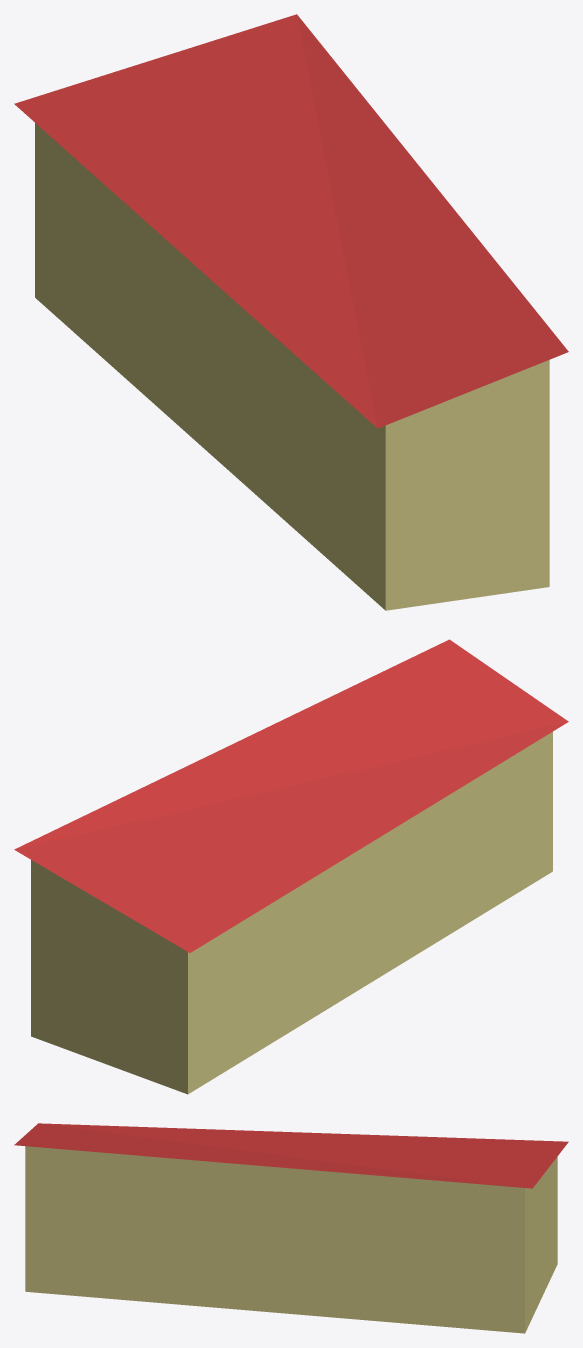
3 views of the same model, one above another, from view 1: azimuth 30°, elevation 25°; view 2: azimuth 150°, elevation 25°; view 3: azimuth 270°, elevation 25° (orthographic). The views are drawn at different scales.
Size of the model in its own units: 11.88 by 29.03 by 8.64.
